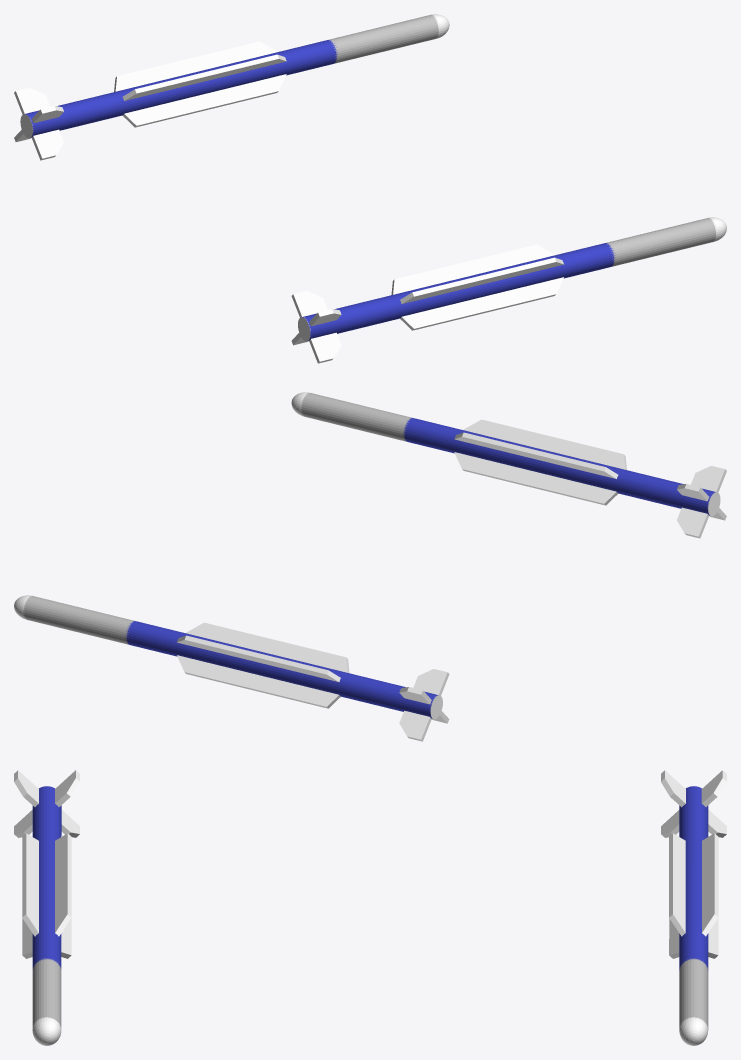
The model's file is aam5cf15j23.glb.
3 views of the same model, one above another, from view 1: azimuth 30°, elevation 25°; view 2: azimuth 150°, elevation 25°; view 3: azimuth 270°, elevation 25° (orthographic). The views are drawn at different scales.
Visible parts, largest first — view 1: 円柱.003, 円柱.012; view 2: 円柱.012, 円柱.003; view 3: 円柱.003, 円柱.012.
Part boxes in pixels (x1,y1,x2,y2): 円柱.003: (14,14,449,160); 円柱.012: (291,217,726,363); 円柱.012: (291,392,726,538); 円柱.003: (14,595,449,741); 円柱.003: (661,770,726,1045); 円柱.012: (14,770,79,1045).
Size of the model in its own units: 4 by 0.467 by 5.03.
Materials: 3 (1 with a texture image).
